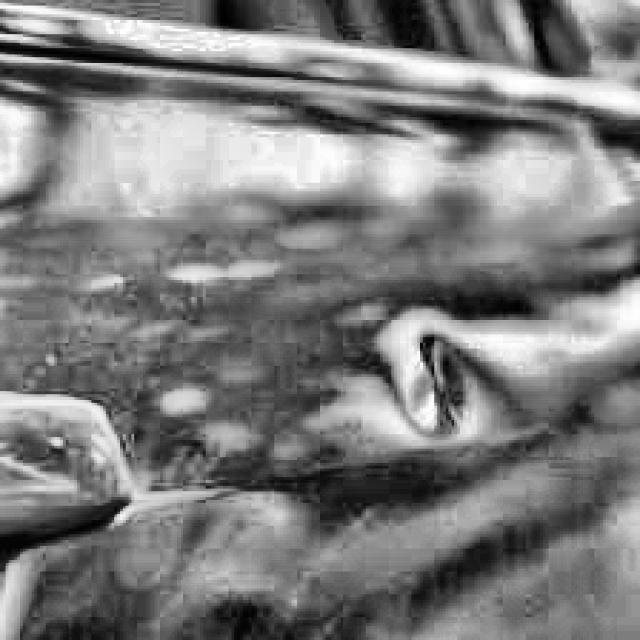door_dent: (370, 328, 492, 448)
